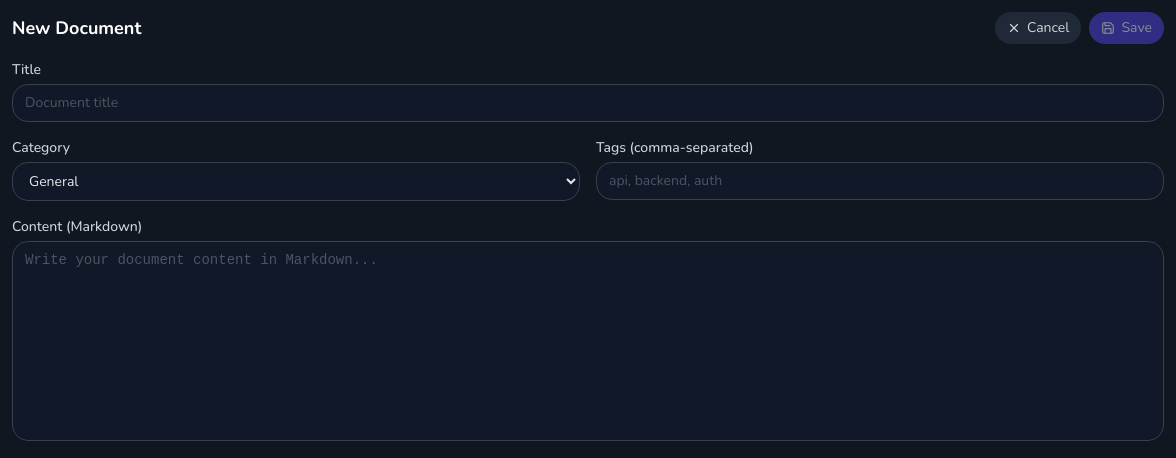
Scenario: KnowledgeDocumentEditor › Form Validation › should enable Save button when both title and content have values
This screenshot has width=1176, height=458.
In the field labelled "Title": point(588, 103) [12,84,1164,122], type "My Document"
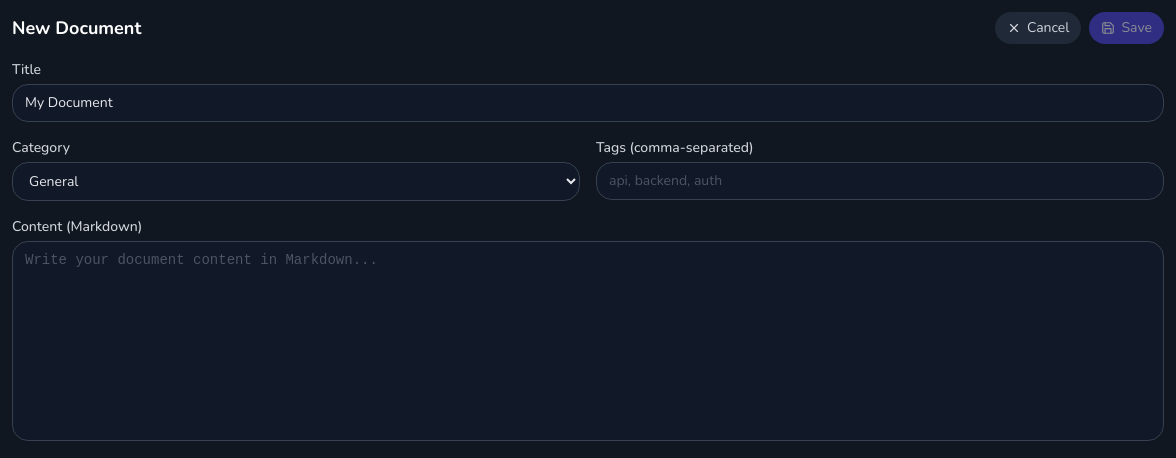
In the text box labelled "Content (Markdown)": point(588, 341) [12,241,1164,441], type "Some content here"
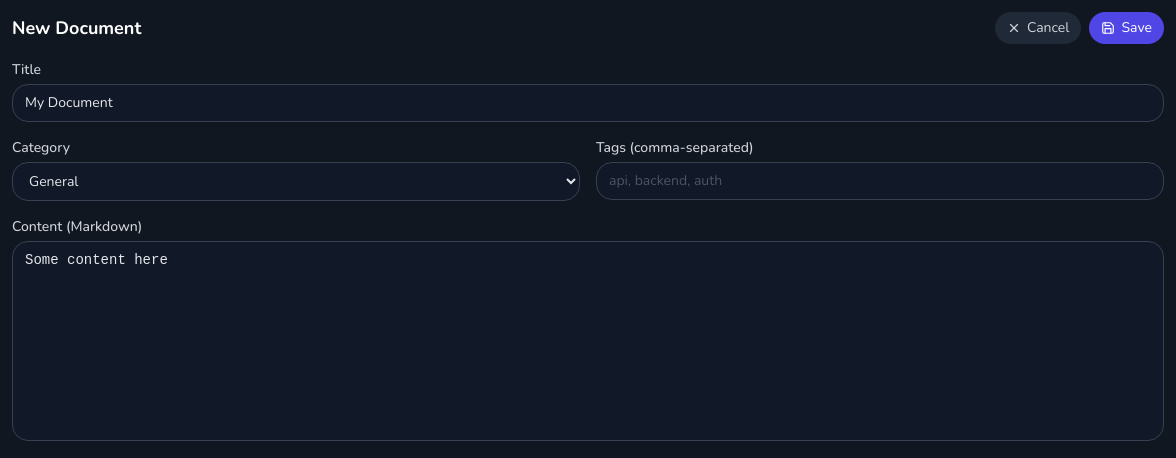
Now the button "Save" is enabled, box [1090,12,1164,44]
